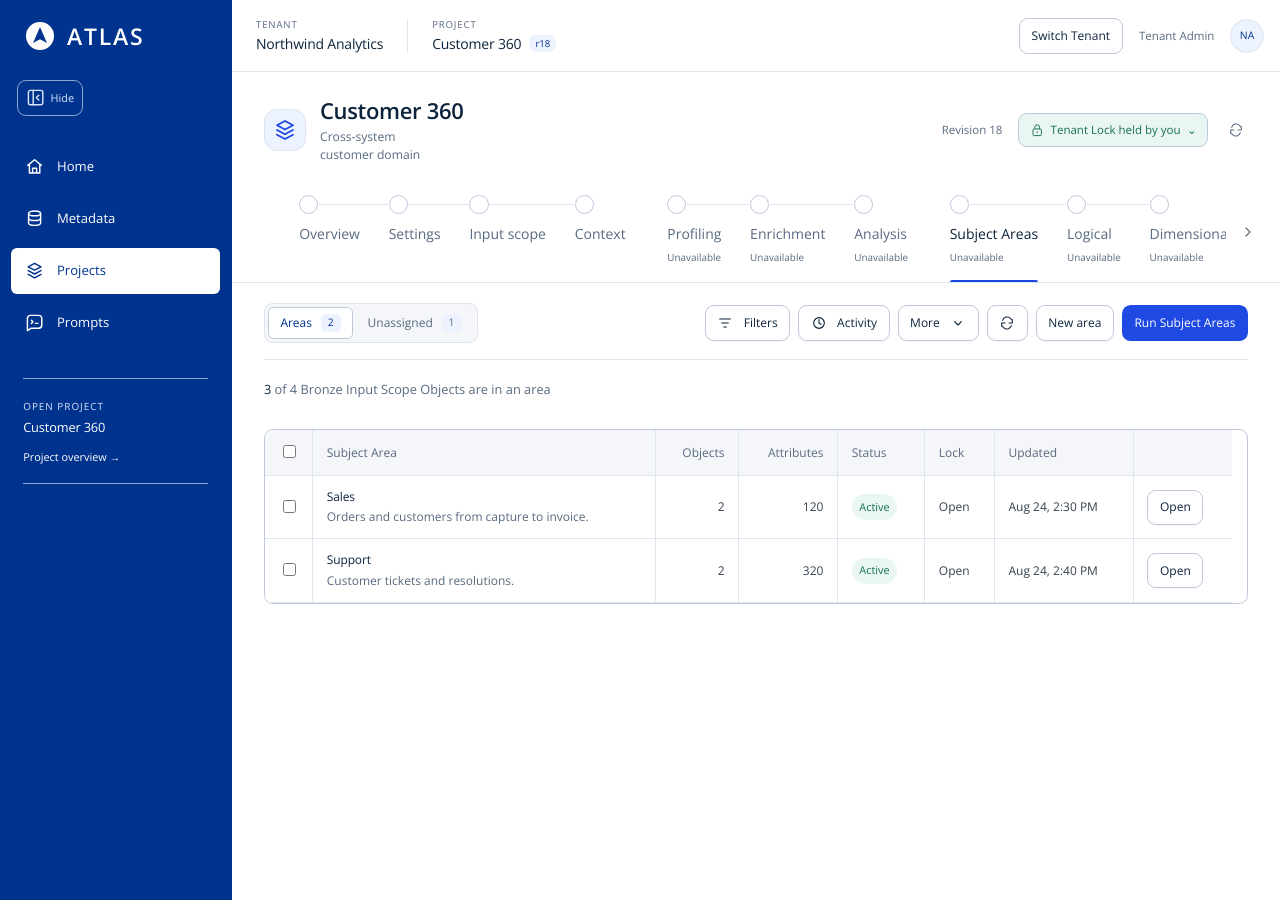
Test case: Project Subject Areas › keeps the form and explains a name conflict
Expected: the table named "Subject Areas" is shown, [265,430,1232,603]
Click the button "New area": {"x": 1075, "y": 323} [1036,305,1114,341]
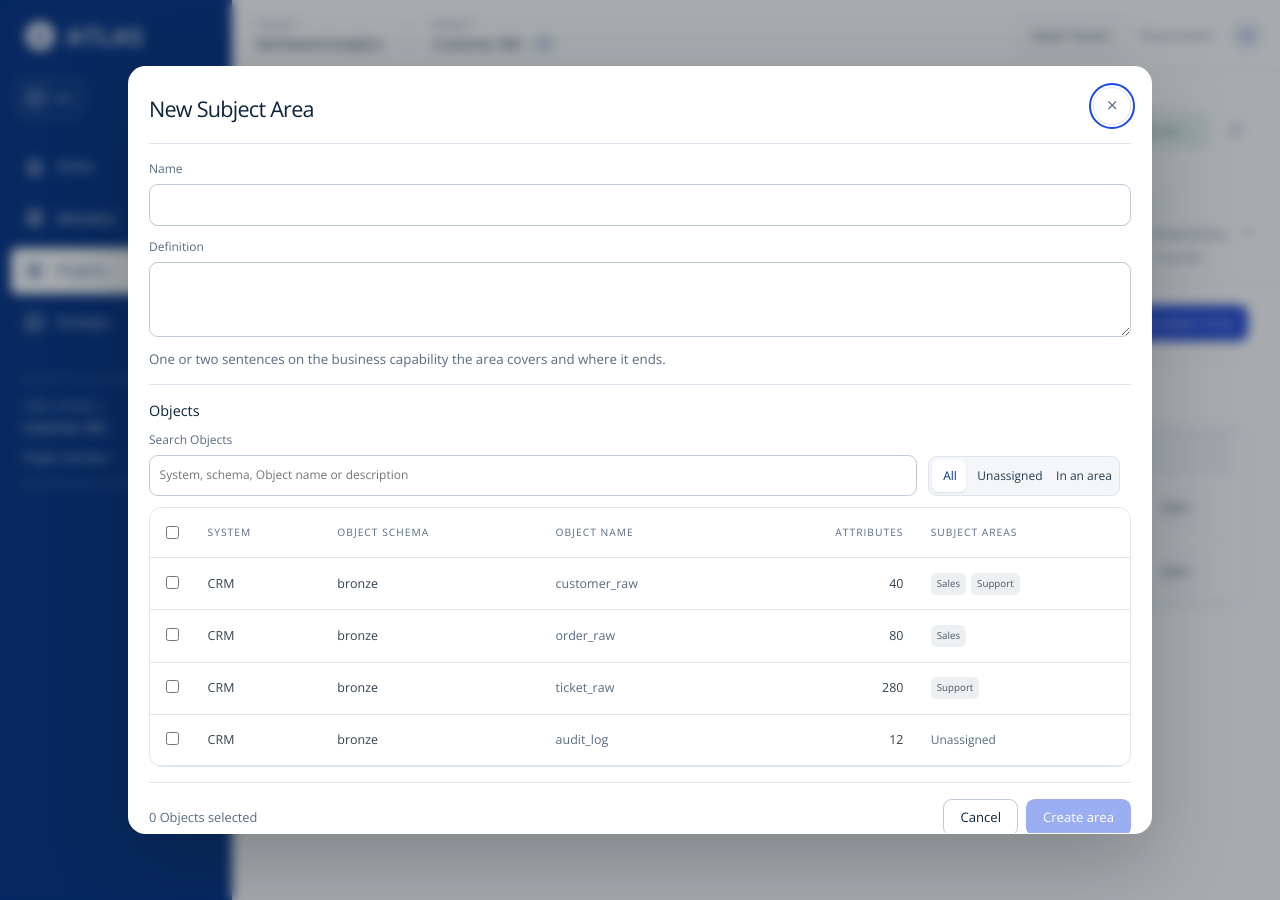
In the field labelled "Name": {"x": 640, "y": 205} [149,184,1131,226], type "Sales"
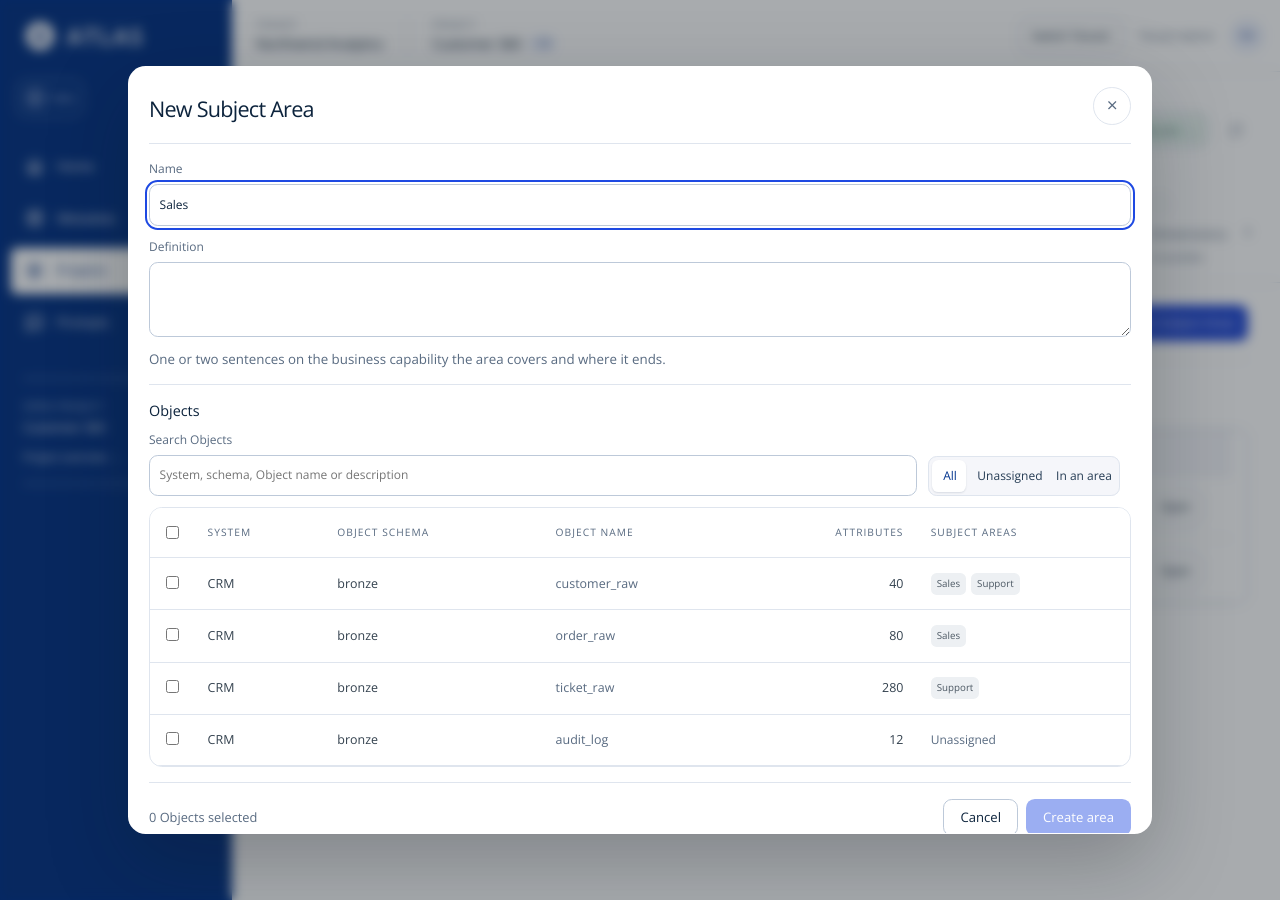
In the text box labelled "Definition": {"x": 640, "y": 300} [149,262,1131,337], type "Duplicate."
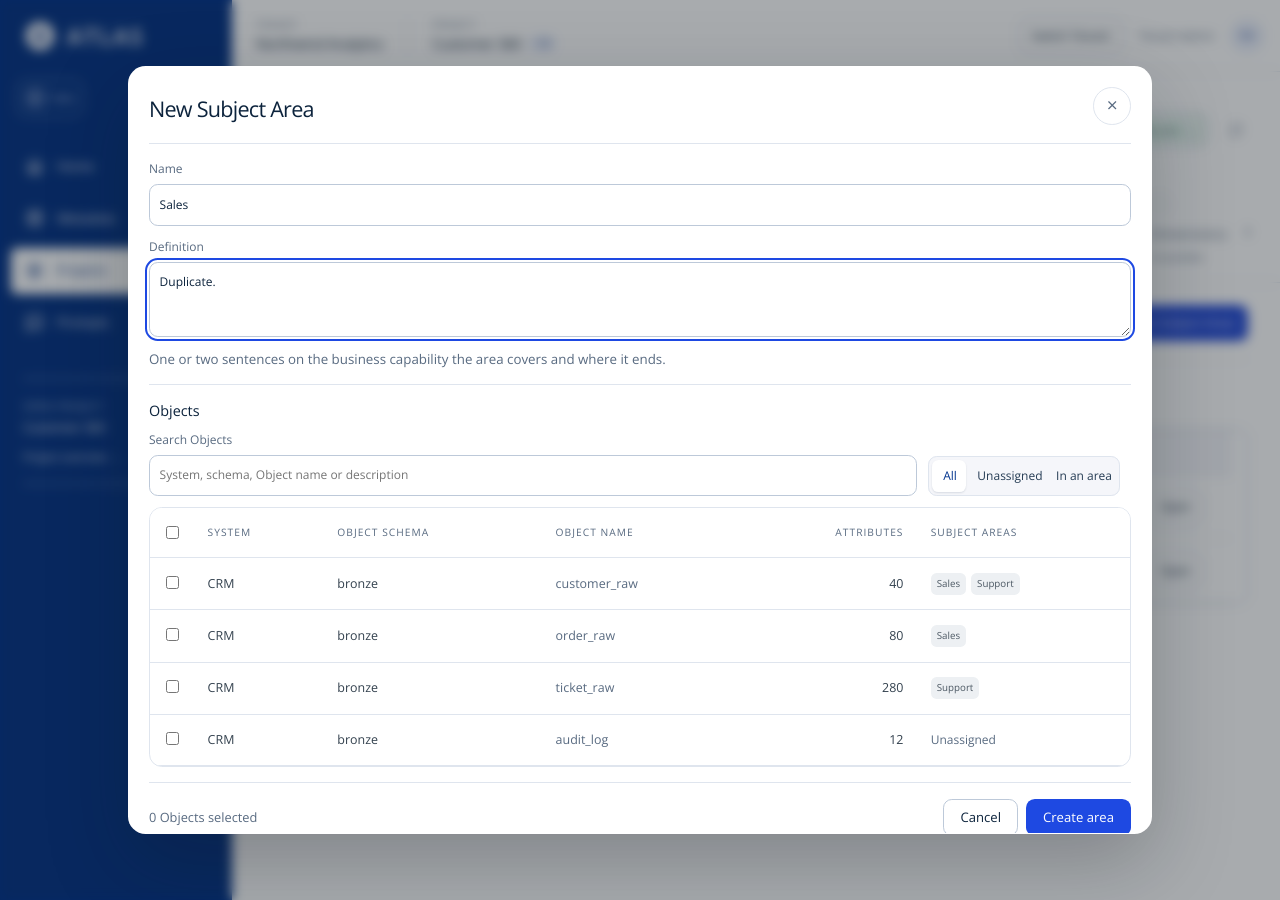
Click the button "Create area": {"x": 1078, "y": 817} [1026,798,1131,836]
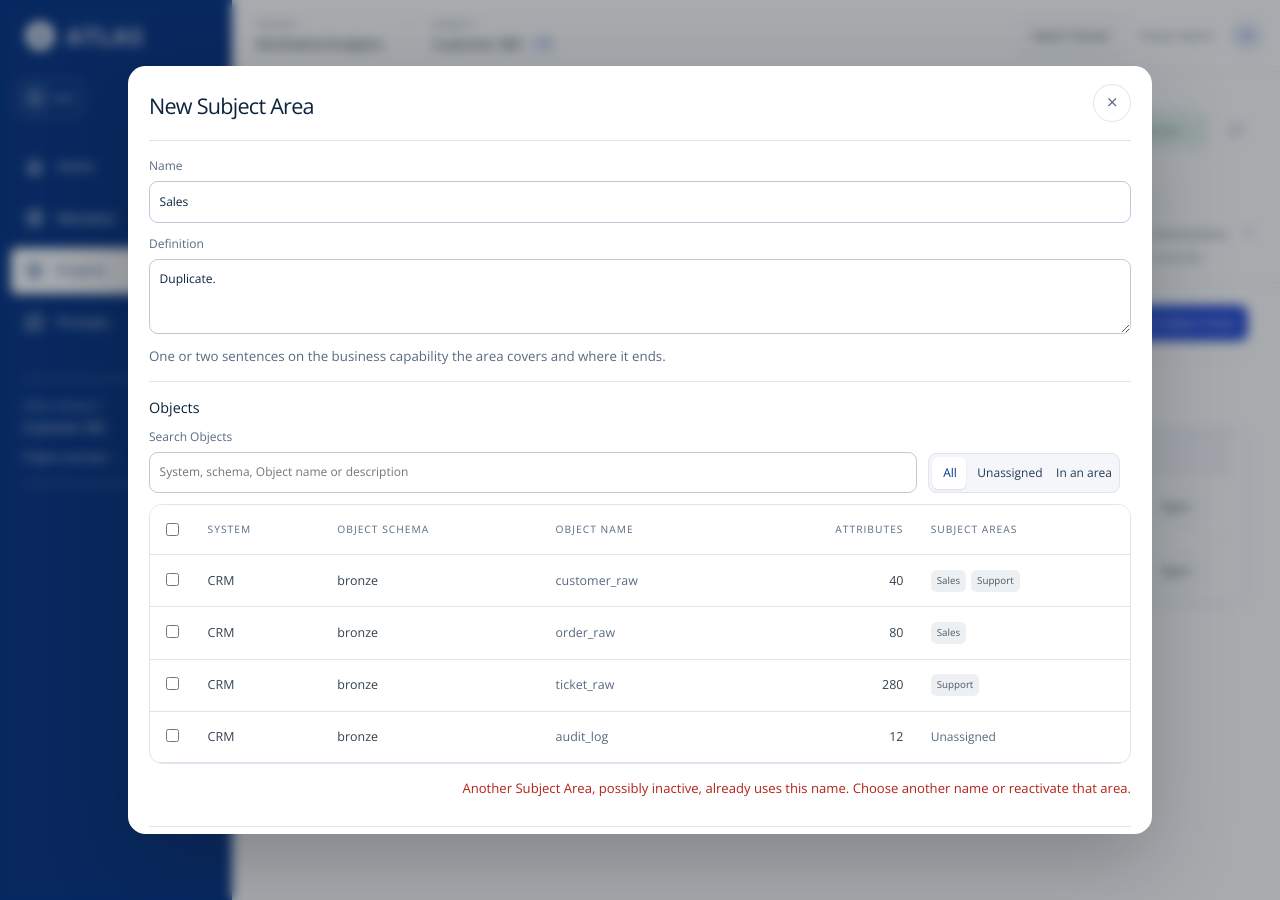
Expected: the message shows "already uses this name", [462,778,1131,796]
